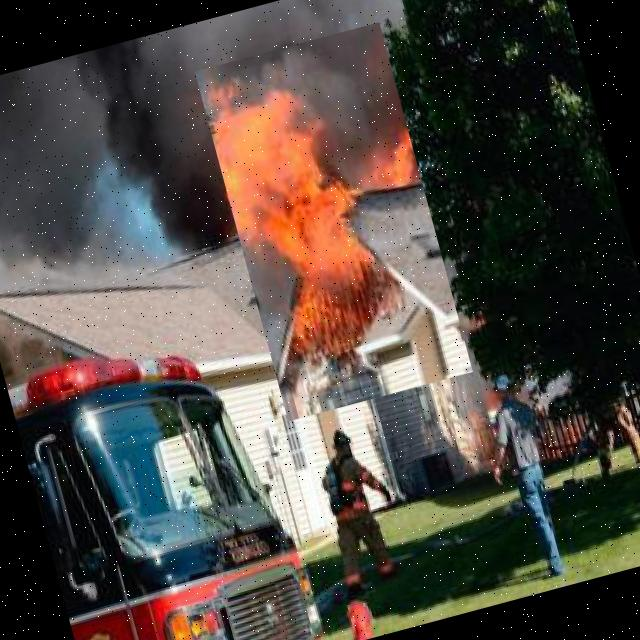fire: (195, 22, 472, 420)
